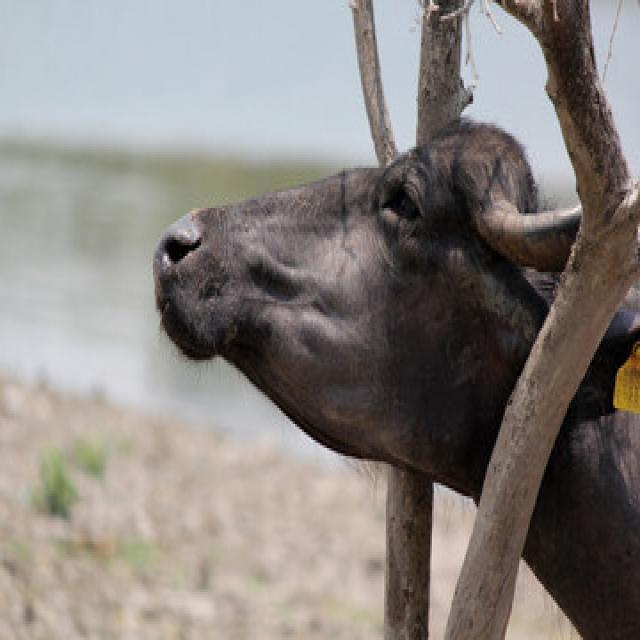Buffalo: (151, 109, 640, 640)
